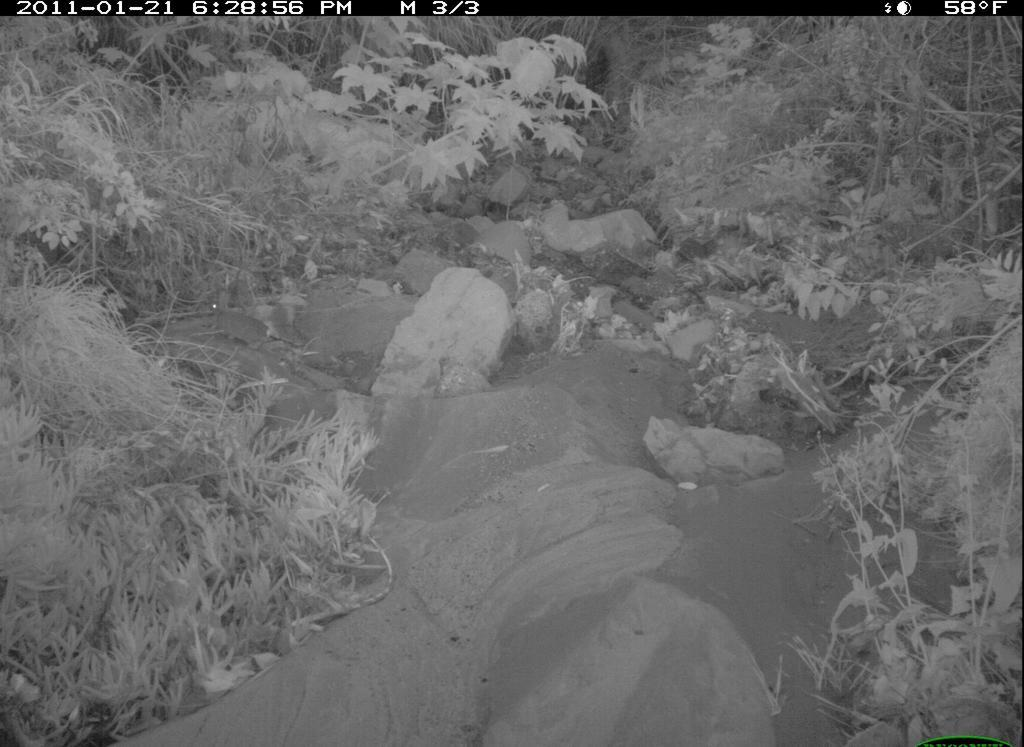rabbit: (201, 283, 277, 358)
